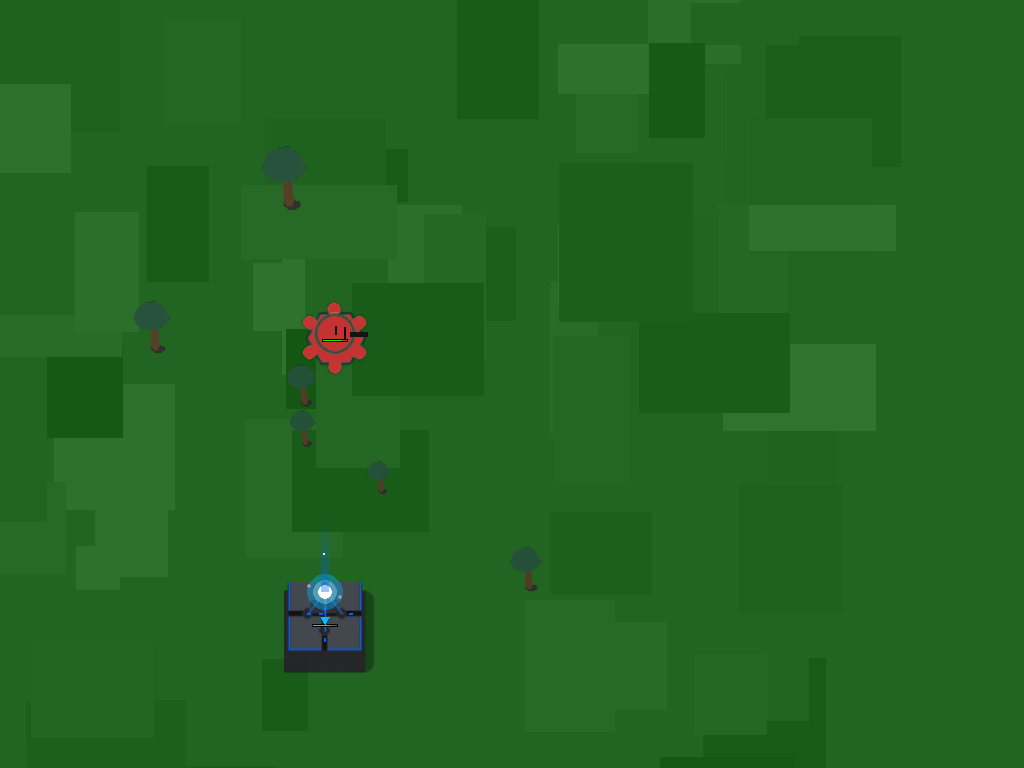Bunker: (297, 301, 371, 375)
ResearchCenter: (279, 577, 371, 669)
